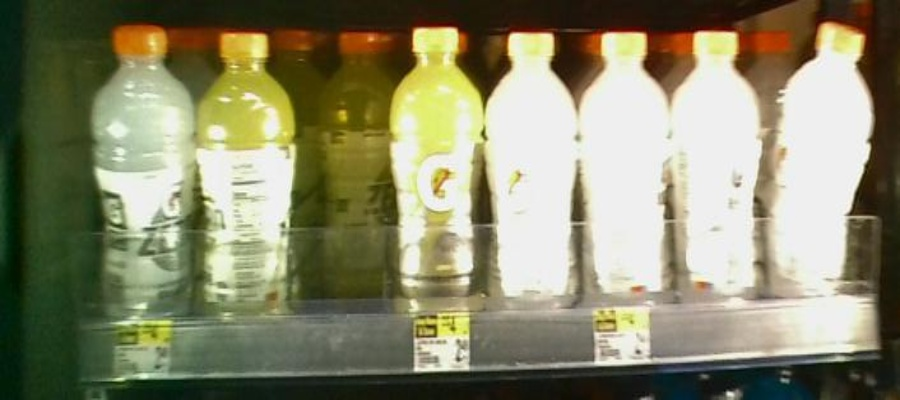bottle: (89, 10, 198, 343), (200, 30, 302, 341), (771, 20, 876, 319), (674, 25, 765, 316), (396, 27, 486, 321), (491, 27, 579, 317), (583, 30, 668, 317), (315, 30, 390, 314)
